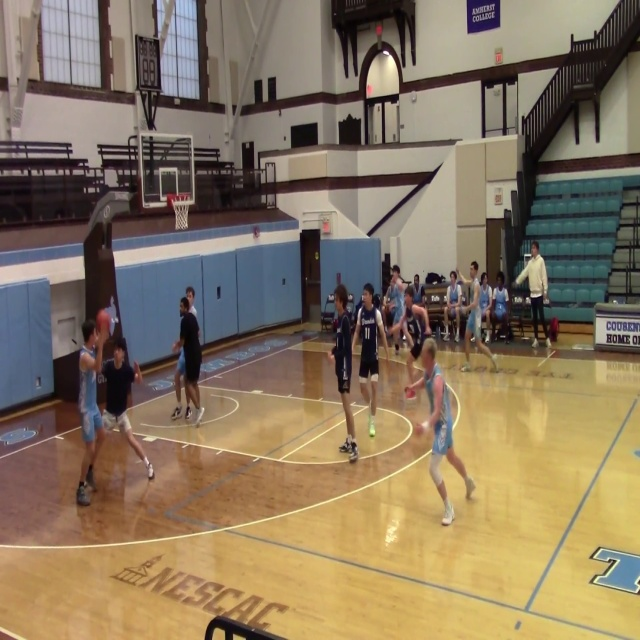Basketball: (96, 309, 110, 333), (413, 422, 426, 436), (411, 304, 424, 317), (405, 387, 415, 399)
